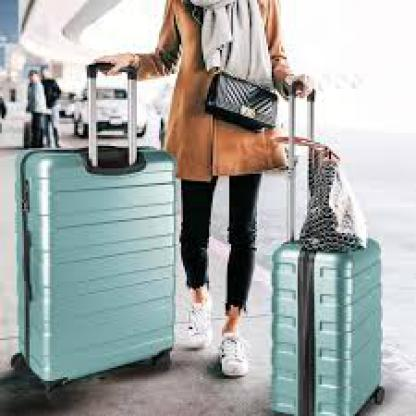maleta: (8, 142, 192, 394), (255, 216, 401, 414)
